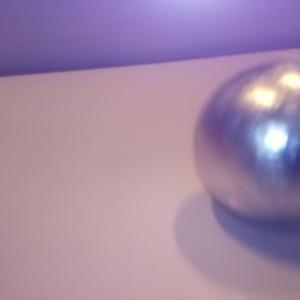alive_ball: (193, 58, 300, 229)
